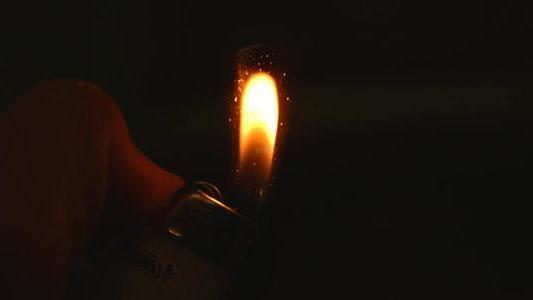fire: (220, 62, 292, 213)
